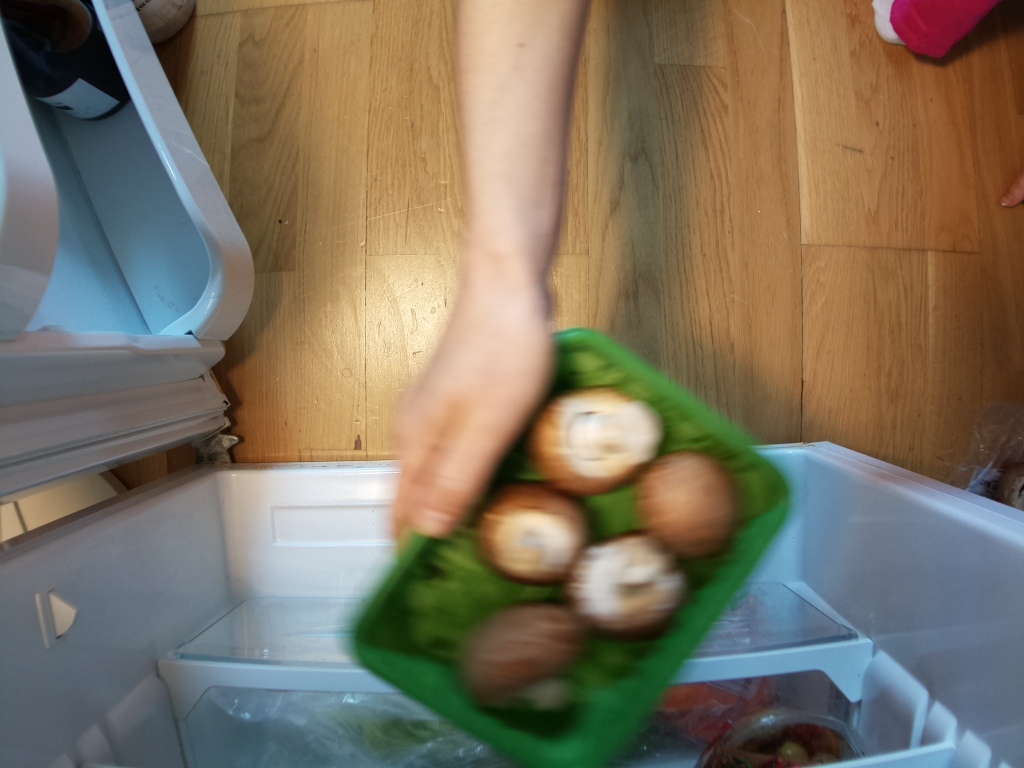mushrooms: (345, 328, 794, 768)
